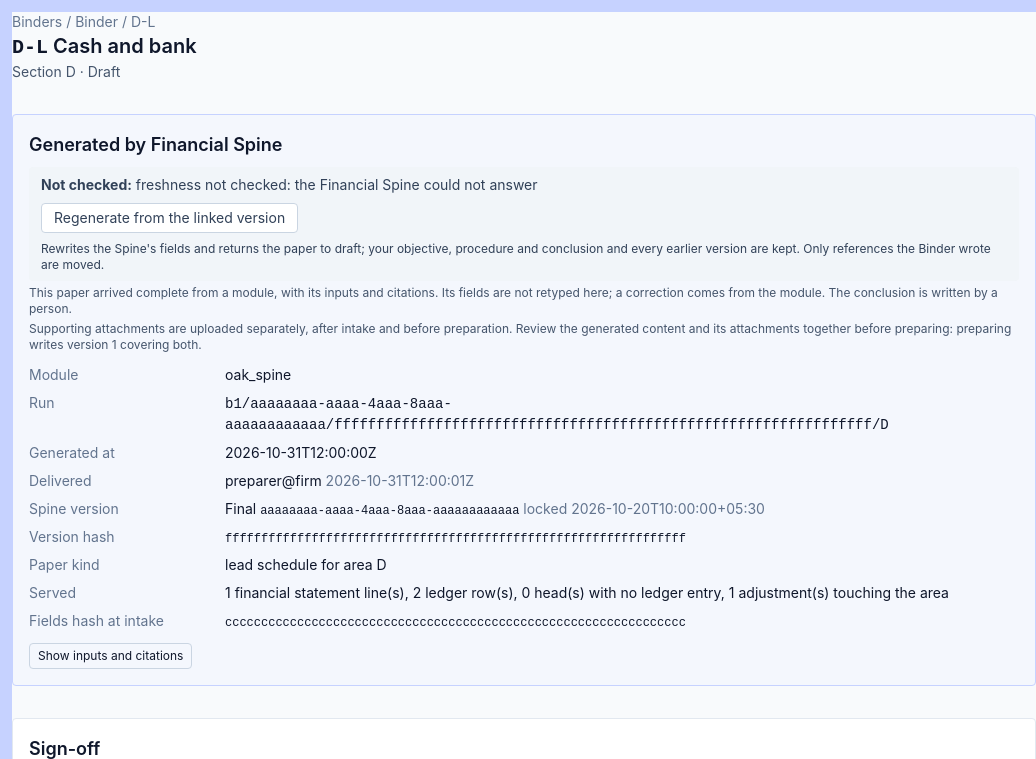
Test case: a not-checked Spine paper says why, and a refused regeneration is shown as said
Expected: the heading "Generated by Financial Spine" is shown, [29,134,282,155]
Expected: the message with test id "gen-freshness" shows "Not checked: freshness not checked: the Financial Spine could not answer", [29,167,1019,281]
Click the button "Regenerate from the linked version" at (170, 218), box [41,203,298,233]
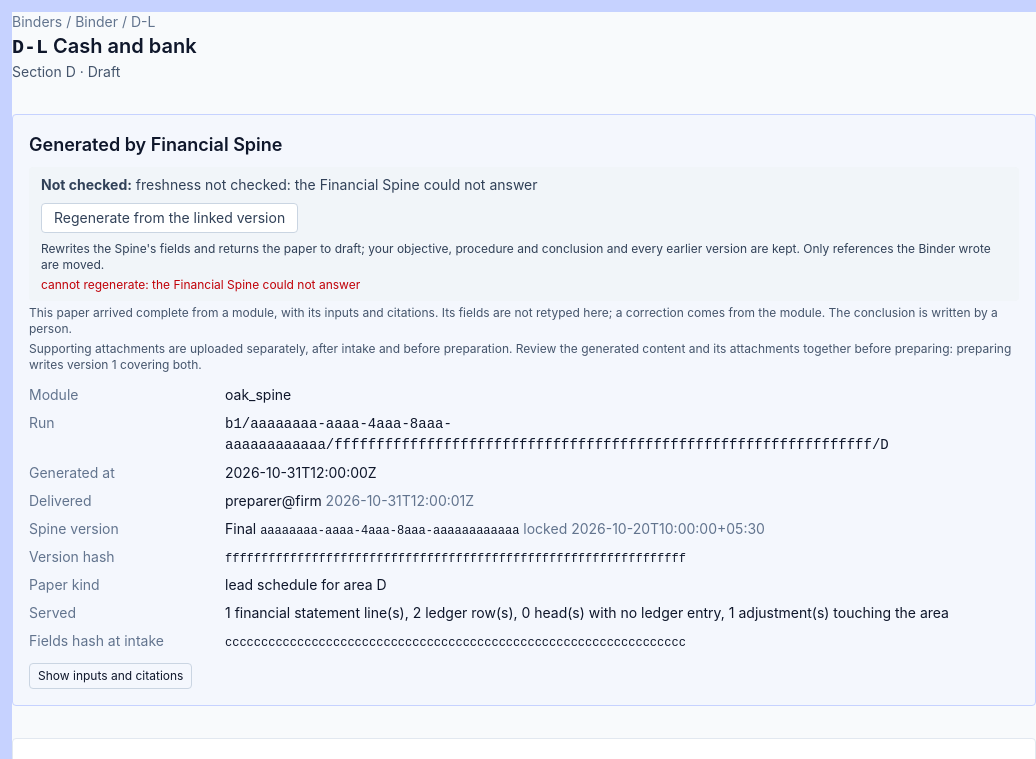
Expected: the message shows "could not answer", [41,277,360,292]
